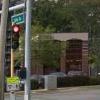Traffic light: (7, 18, 23, 55)
